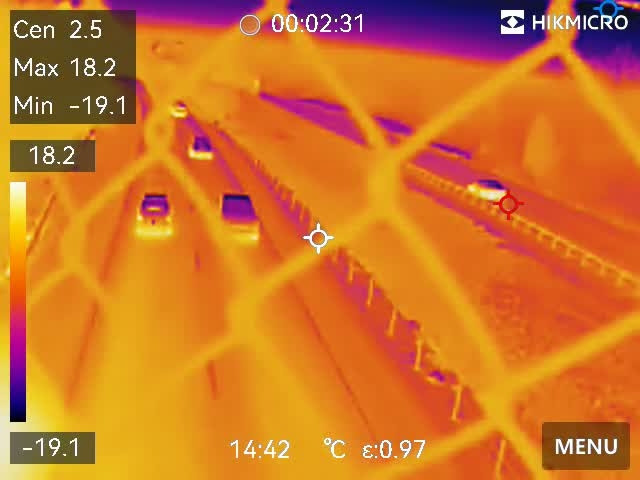smallCar: (459, 177, 511, 205)
vehicle: (219, 188, 259, 250), (136, 187, 176, 241), (189, 133, 213, 165), (169, 99, 187, 124)
